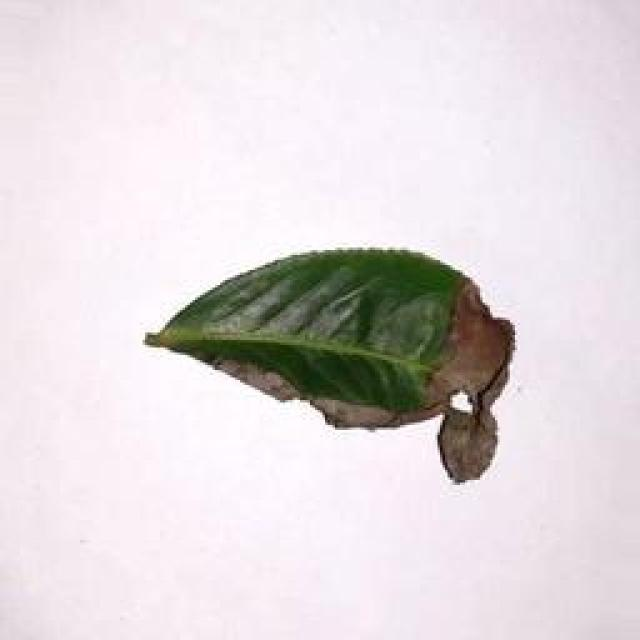Brown Blight: (116, 245, 514, 465)
